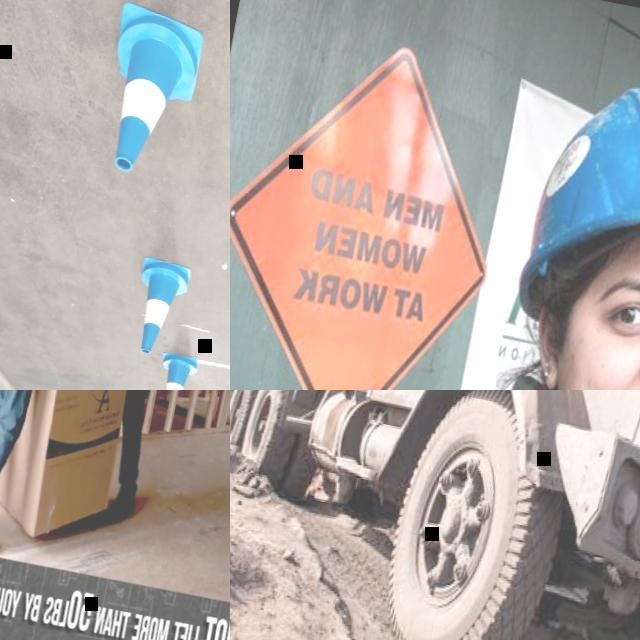Hardhat: (507, 65, 640, 360)
Person: (335, 42, 640, 390), (51, 390, 208, 519), (0, 390, 109, 562)
Safety Cone: (88, 0, 211, 182), (121, 254, 196, 359), (147, 351, 198, 390)
machinery: (230, 390, 640, 640)
